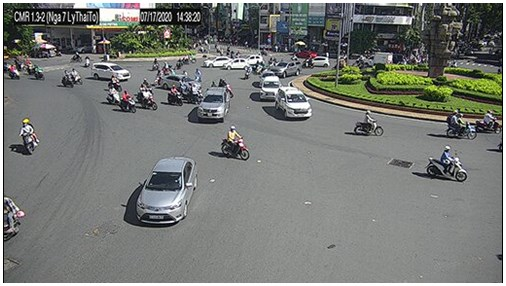xe_hoi: (124, 158, 198, 229), (273, 86, 313, 119), (196, 87, 230, 123), (91, 61, 131, 80), (269, 60, 301, 78), (257, 76, 281, 99), (202, 56, 232, 69), (223, 57, 253, 70), (307, 56, 329, 67)
xe_may: (426, 144, 468, 182), (445, 109, 478, 141), (2, 195, 23, 245), (221, 126, 249, 161), (353, 108, 383, 136), (18, 117, 39, 156), (216, 79, 235, 99), (166, 84, 183, 106), (119, 90, 135, 113), (141, 89, 157, 111), (106, 83, 120, 105), (109, 74, 124, 91), (70, 68, 83, 85), (34, 63, 46, 81), (62, 70, 73, 88), (8, 64, 20, 80), (303, 53, 314, 70), (333, 58, 347, 71), (26, 59, 36, 75), (255, 60, 266, 74), (151, 57, 159, 71), (244, 65, 252, 79), (182, 55, 190, 67), (174, 58, 182, 70), (259, 46, 268, 56), (84, 54, 90, 67), (190, 54, 197, 65)
